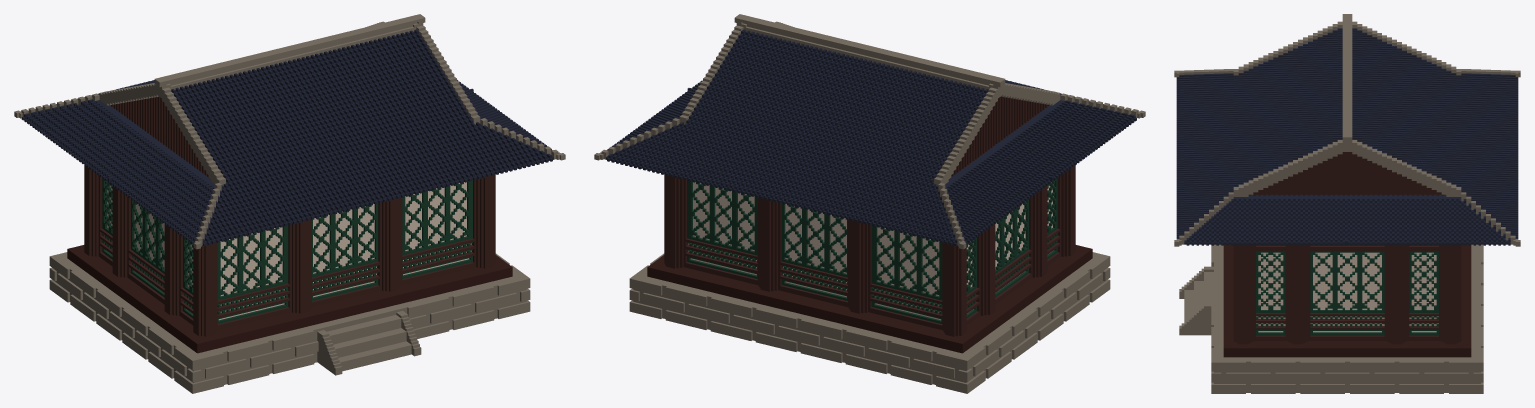
The model's file is Korean castle_house_01.FBX.
3 views of the same model, side by side, from view 1: azimuth 30°, elevation 25°; view 2: azimuth 150°, elevation 25°; view 3: azimuth 270°, elevation 25° (orthographic). The views are drawn at different scales.
Visible parts, largest first — view 1: Voxel_Korean_traditional castle-9; view 2: Voxel_Korean_traditional castle-9; view 3: Voxel_Korean_traditional castle-9.
Boxes of the visible parts, x1,y1,x2,y2 form: Voxel_Korean_traditional castle-9: (14,14,565,393); Voxel_Korean_traditional castle-9: (594,14,1145,393); Voxel_Korean_traditional castle-9: (1174,14,1520,393).
Bounding box in the file's own units: 328 × 214 × 280.
1 material, 1 textured.
